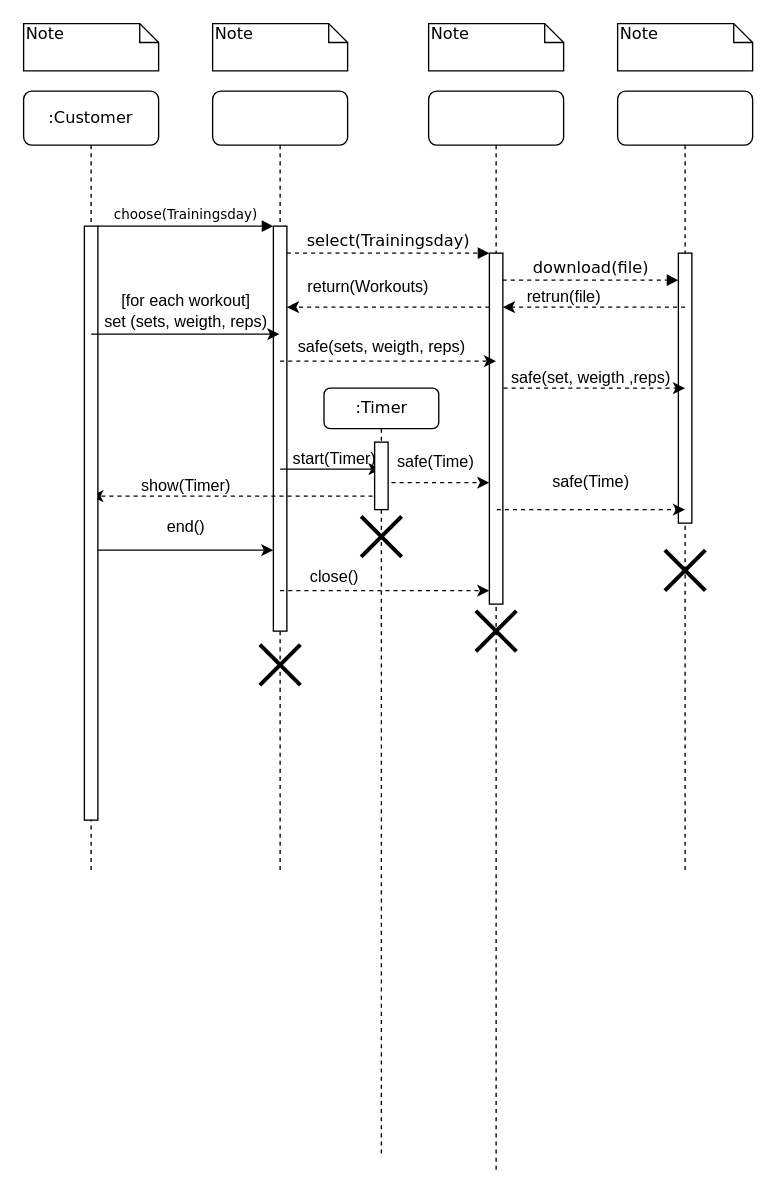
This 776x1195 diagram has some shape labels left out. Here are the shapes that lost their labels. From the top down, the box of each, then its label:
(211, 90, 348, 874): :Interface
(616, 90, 753, 874): :Cloud
(427, 90, 564, 1171): :DataBase
